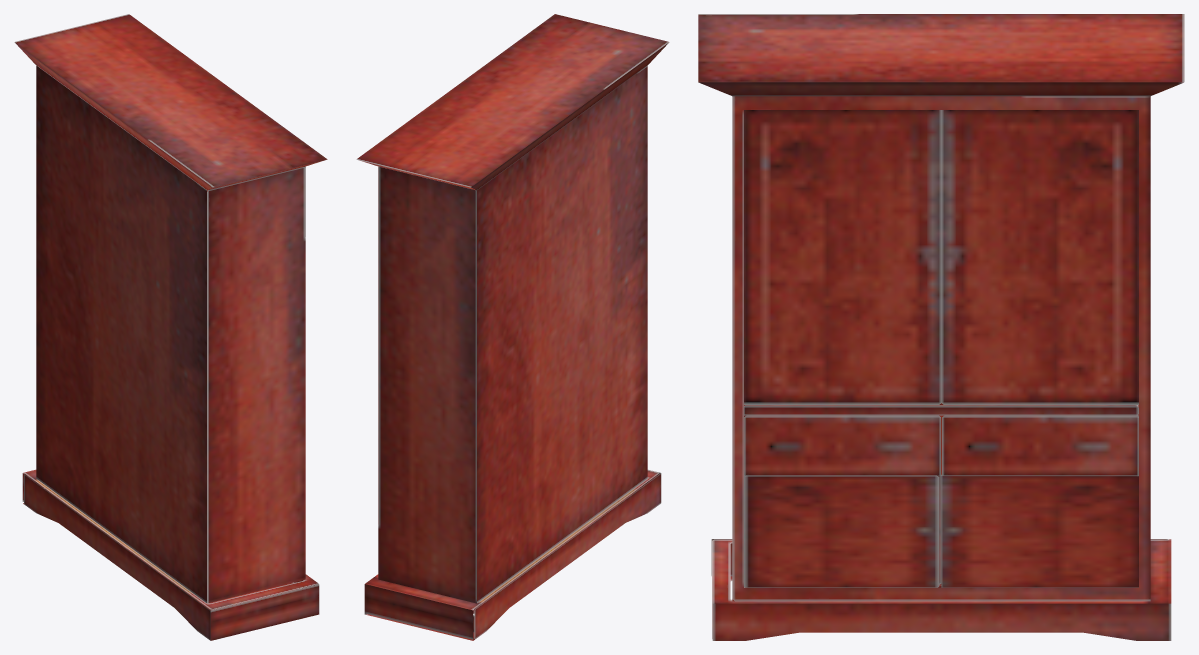
Rendered from Red Antique Wardrobe.fbx.
The picture shows the model from 3 angles, left to right: view 1: azimuth 30°, elevation 25°; view 2: azimuth 150°, elevation 25°; view 3: azimuth 270°, elevation 25°; orthographic projection. The views are drawn at different scales.
Visible parts, largest first — view 1: Red Antique Wardrobe; view 2: Red Antique Wardrobe; view 3: Red Antique Wardrobe, Antique Wardrobe Door-1.001, Antique Wardrobe Door-2.001, Bottom Door-1.001, Bottom Door-2.001, Drawr-1.001, Drawr-2.001.
Boxes of the visible parts, bbox=[...] form: Red Antique Wardrobe: bbox=[14, 14, 327, 640]; Red Antique Wardrobe: bbox=[356, 14, 669, 640]; Red Antique Wardrobe: bbox=[698, 14, 1184, 640]; Antique Wardrobe Door-1.001: bbox=[941, 110, 1138, 404]; Antique Wardrobe Door-2.001: bbox=[744, 110, 941, 404]; Bottom Door-1.001: bbox=[941, 475, 1138, 587]; Bottom Door-2.001: bbox=[744, 474, 941, 587]; Drawr-1.001: bbox=[942, 405, 1138, 475]; Drawr-2.001: bbox=[744, 415, 940, 475].
Size of the model in its own units: 116 by 444 by 349.
